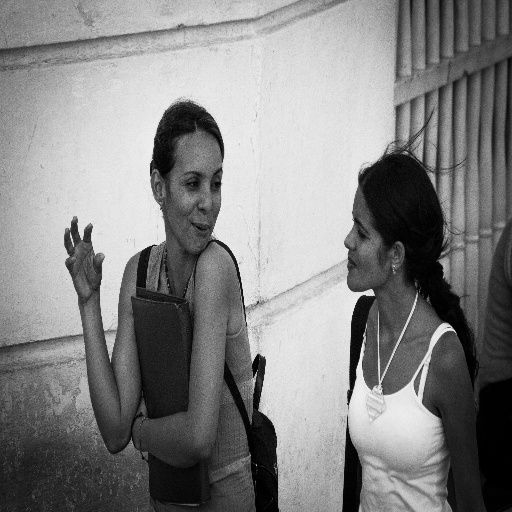hand: (60, 224, 103, 304), (132, 392, 147, 450)
